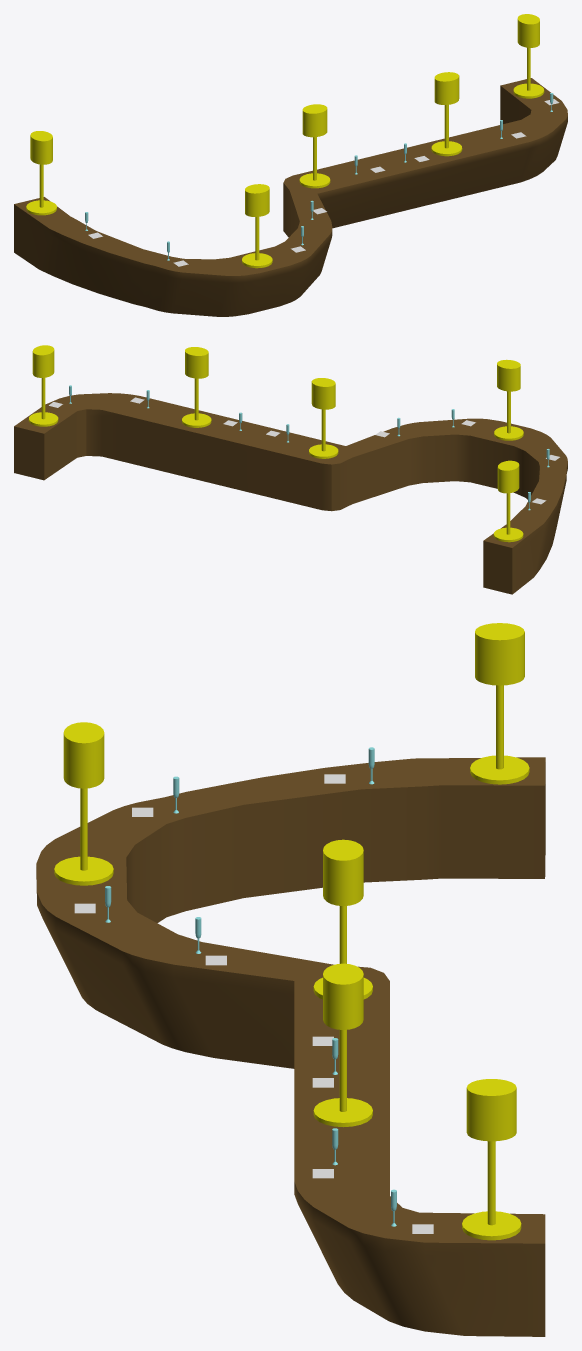
The model's file is CasinoBar.fbx.
The picture shows the model from 3 angles, top to bottom: view 1: azimuth 30°, elevation 25°; view 2: azimuth 150°, elevation 25°; view 3: azimuth 270°, elevation 25°; orthographic projection. The views are drawn at different scales.
Parts seen in each view (by area): view 1: pCube1, pCylinder2, pCylinder4, pCylinder1, pCylinder13, pCylinder3; view 2: pCube1, pCylinder1, pCylinder2, pCylinder3, pCylinder13, pCylinder4; view 3: pCube1, pCylinder3, pCylinder13, pCylinder4, pCylinder2, pCylinder1.
Part boxes in pixels (x1=…): pCube1: x1=14, y1=78, x2=567, y2=316; pCylinder2: x1=431, y1=72, x2=462, y2=156; pCylinder4: x1=242, y1=184, x2=272, y2=268; pCylinder1: x1=299, y1=104, x2=330, y2=188; pCylinder13: x1=26, y1=131, x2=56, y2=215; pCylinder3: x1=513, y1=14, x2=544, y2=98; pCube1: x1=14, y1=393, x2=567, y2=594; pCylinder1: x1=309, y1=378, x2=338, y2=458; pCylinder2: x1=182, y1=347, x2=211, y2=427; pCylinder3: x1=28, y1=345, x2=58, y2=426; pCylinder13: x1=493, y1=460, x2=523, y2=542; pCylinder4: x1=494, y1=359, x2=523, y2=440; pCube1: x1=36, y1=757, x2=545, y2=1336; pCylinder3: x1=462, y1=1079, x2=521, y2=1240; pCylinder13: x1=470, y1=623, x2=529, y2=784; pCylinder4: x1=54, y1=722, x2=113, y2=885; pCylinder2: x1=313, y1=963, x2=372, y2=1127; pCylinder1: x1=313, y1=839, x2=372, y2=999.
Bounding box in the file's own units: 32.63 × 7.31 × 14.43.
